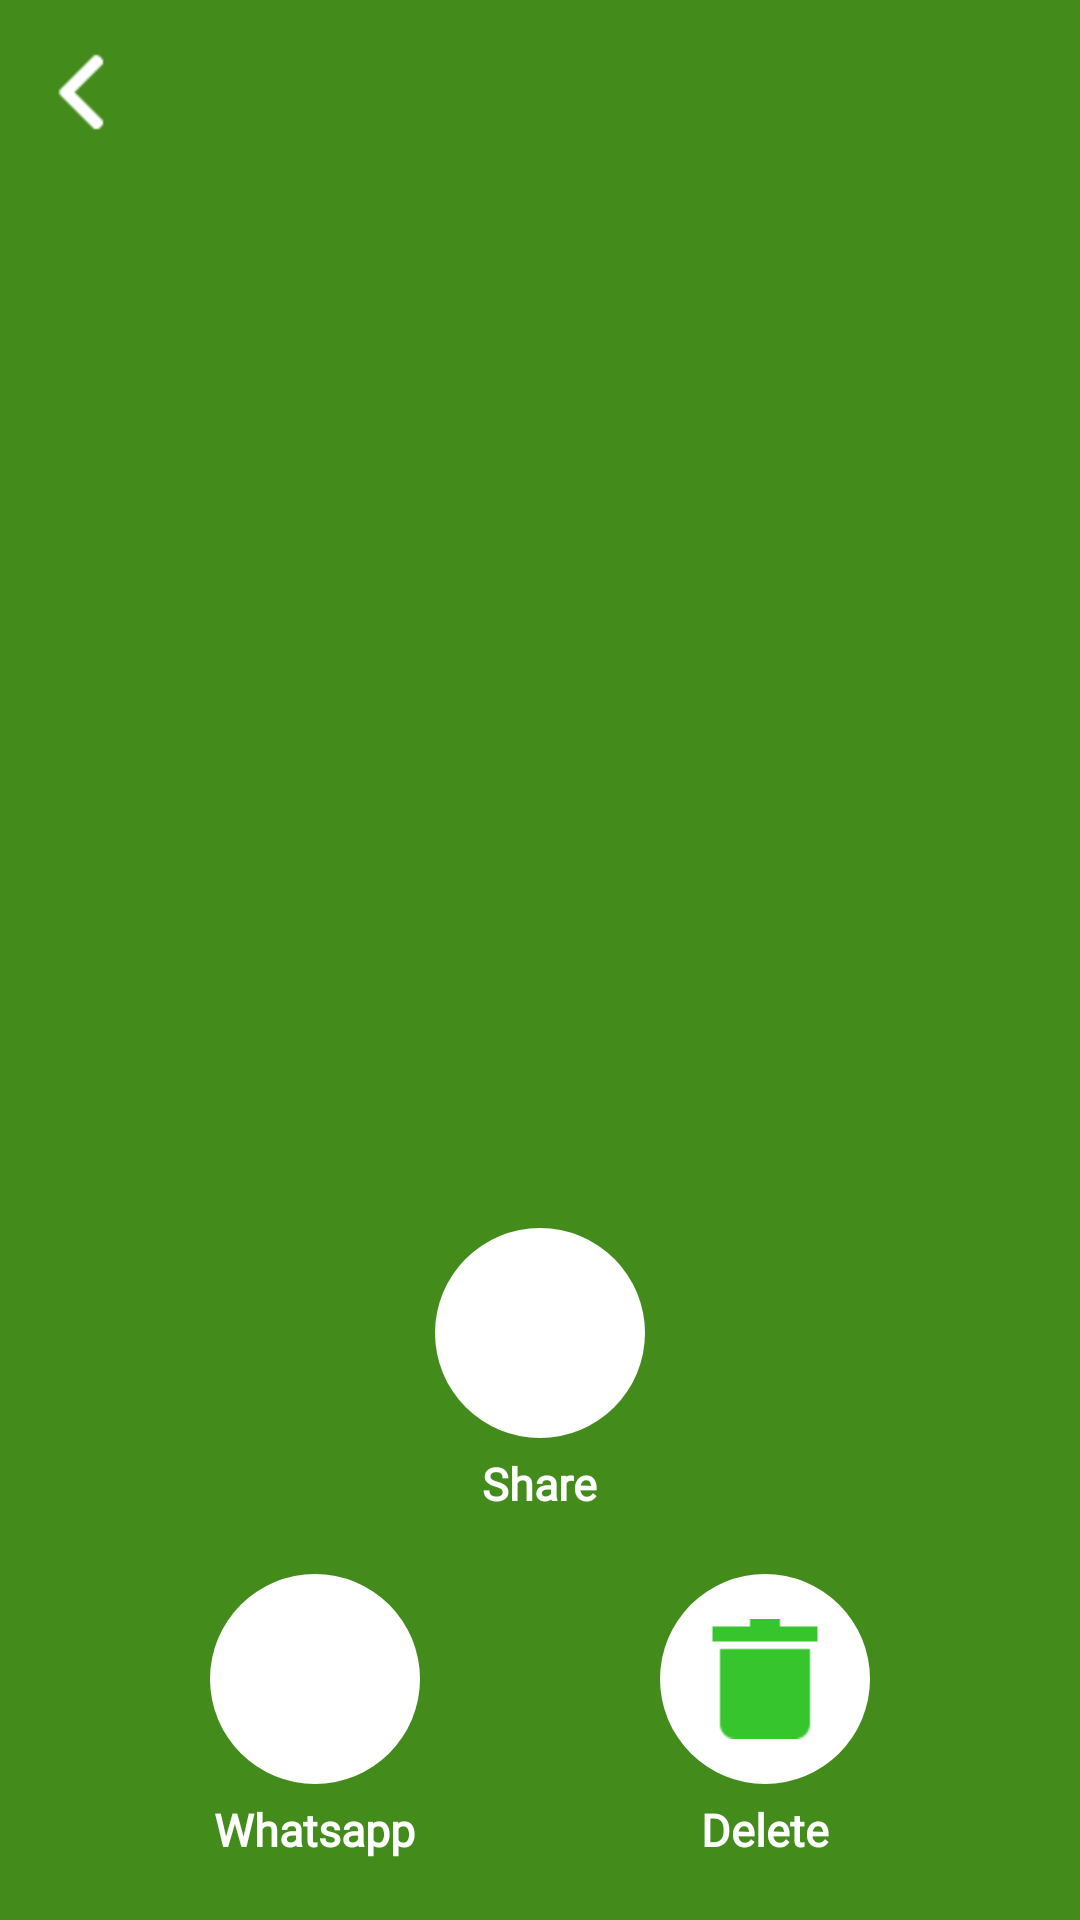

Named icons in this screenshot (1080x1920) and their centers, [x,y]:
back: [81,92]
